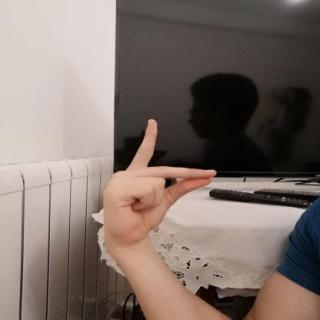TAA: (94, 111, 224, 252)
